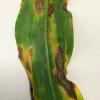Corn leaf blight: (13, 0, 87, 99)
